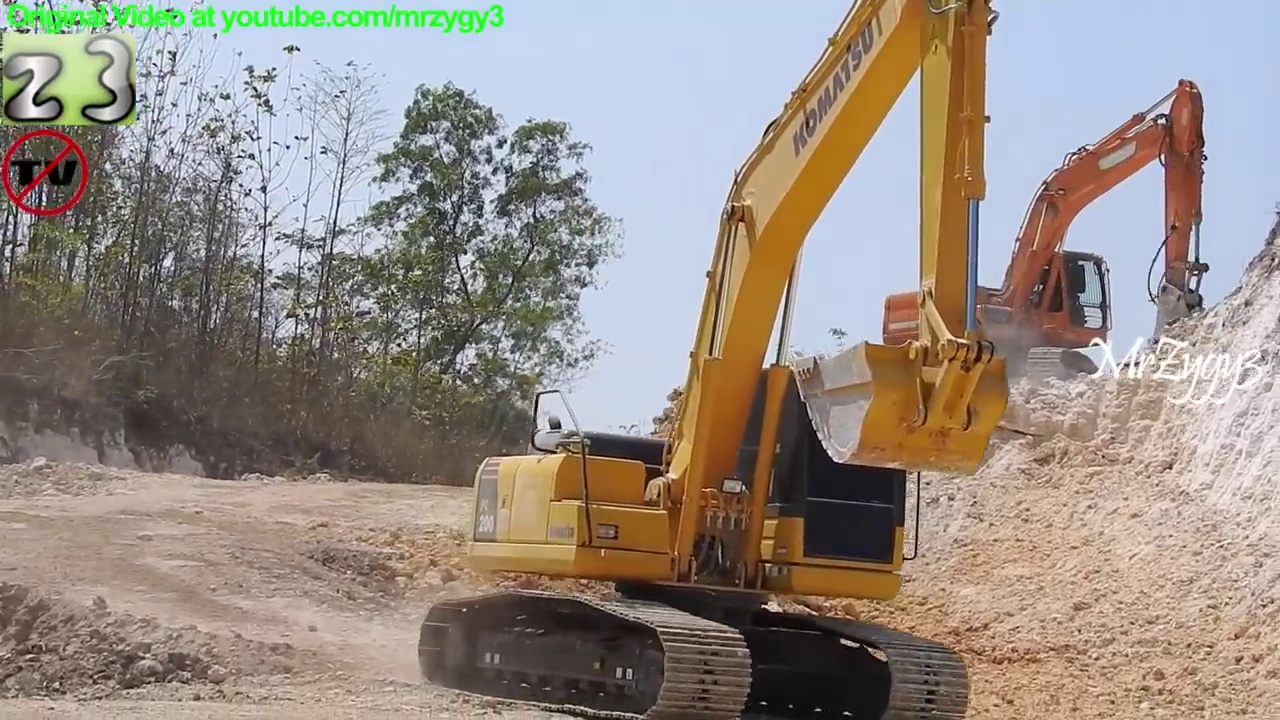excavator: (416, 2, 1019, 720), (879, 75, 1219, 393)
